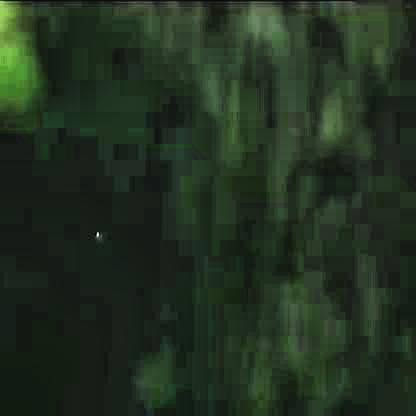golfball: (92, 230, 105, 241)
